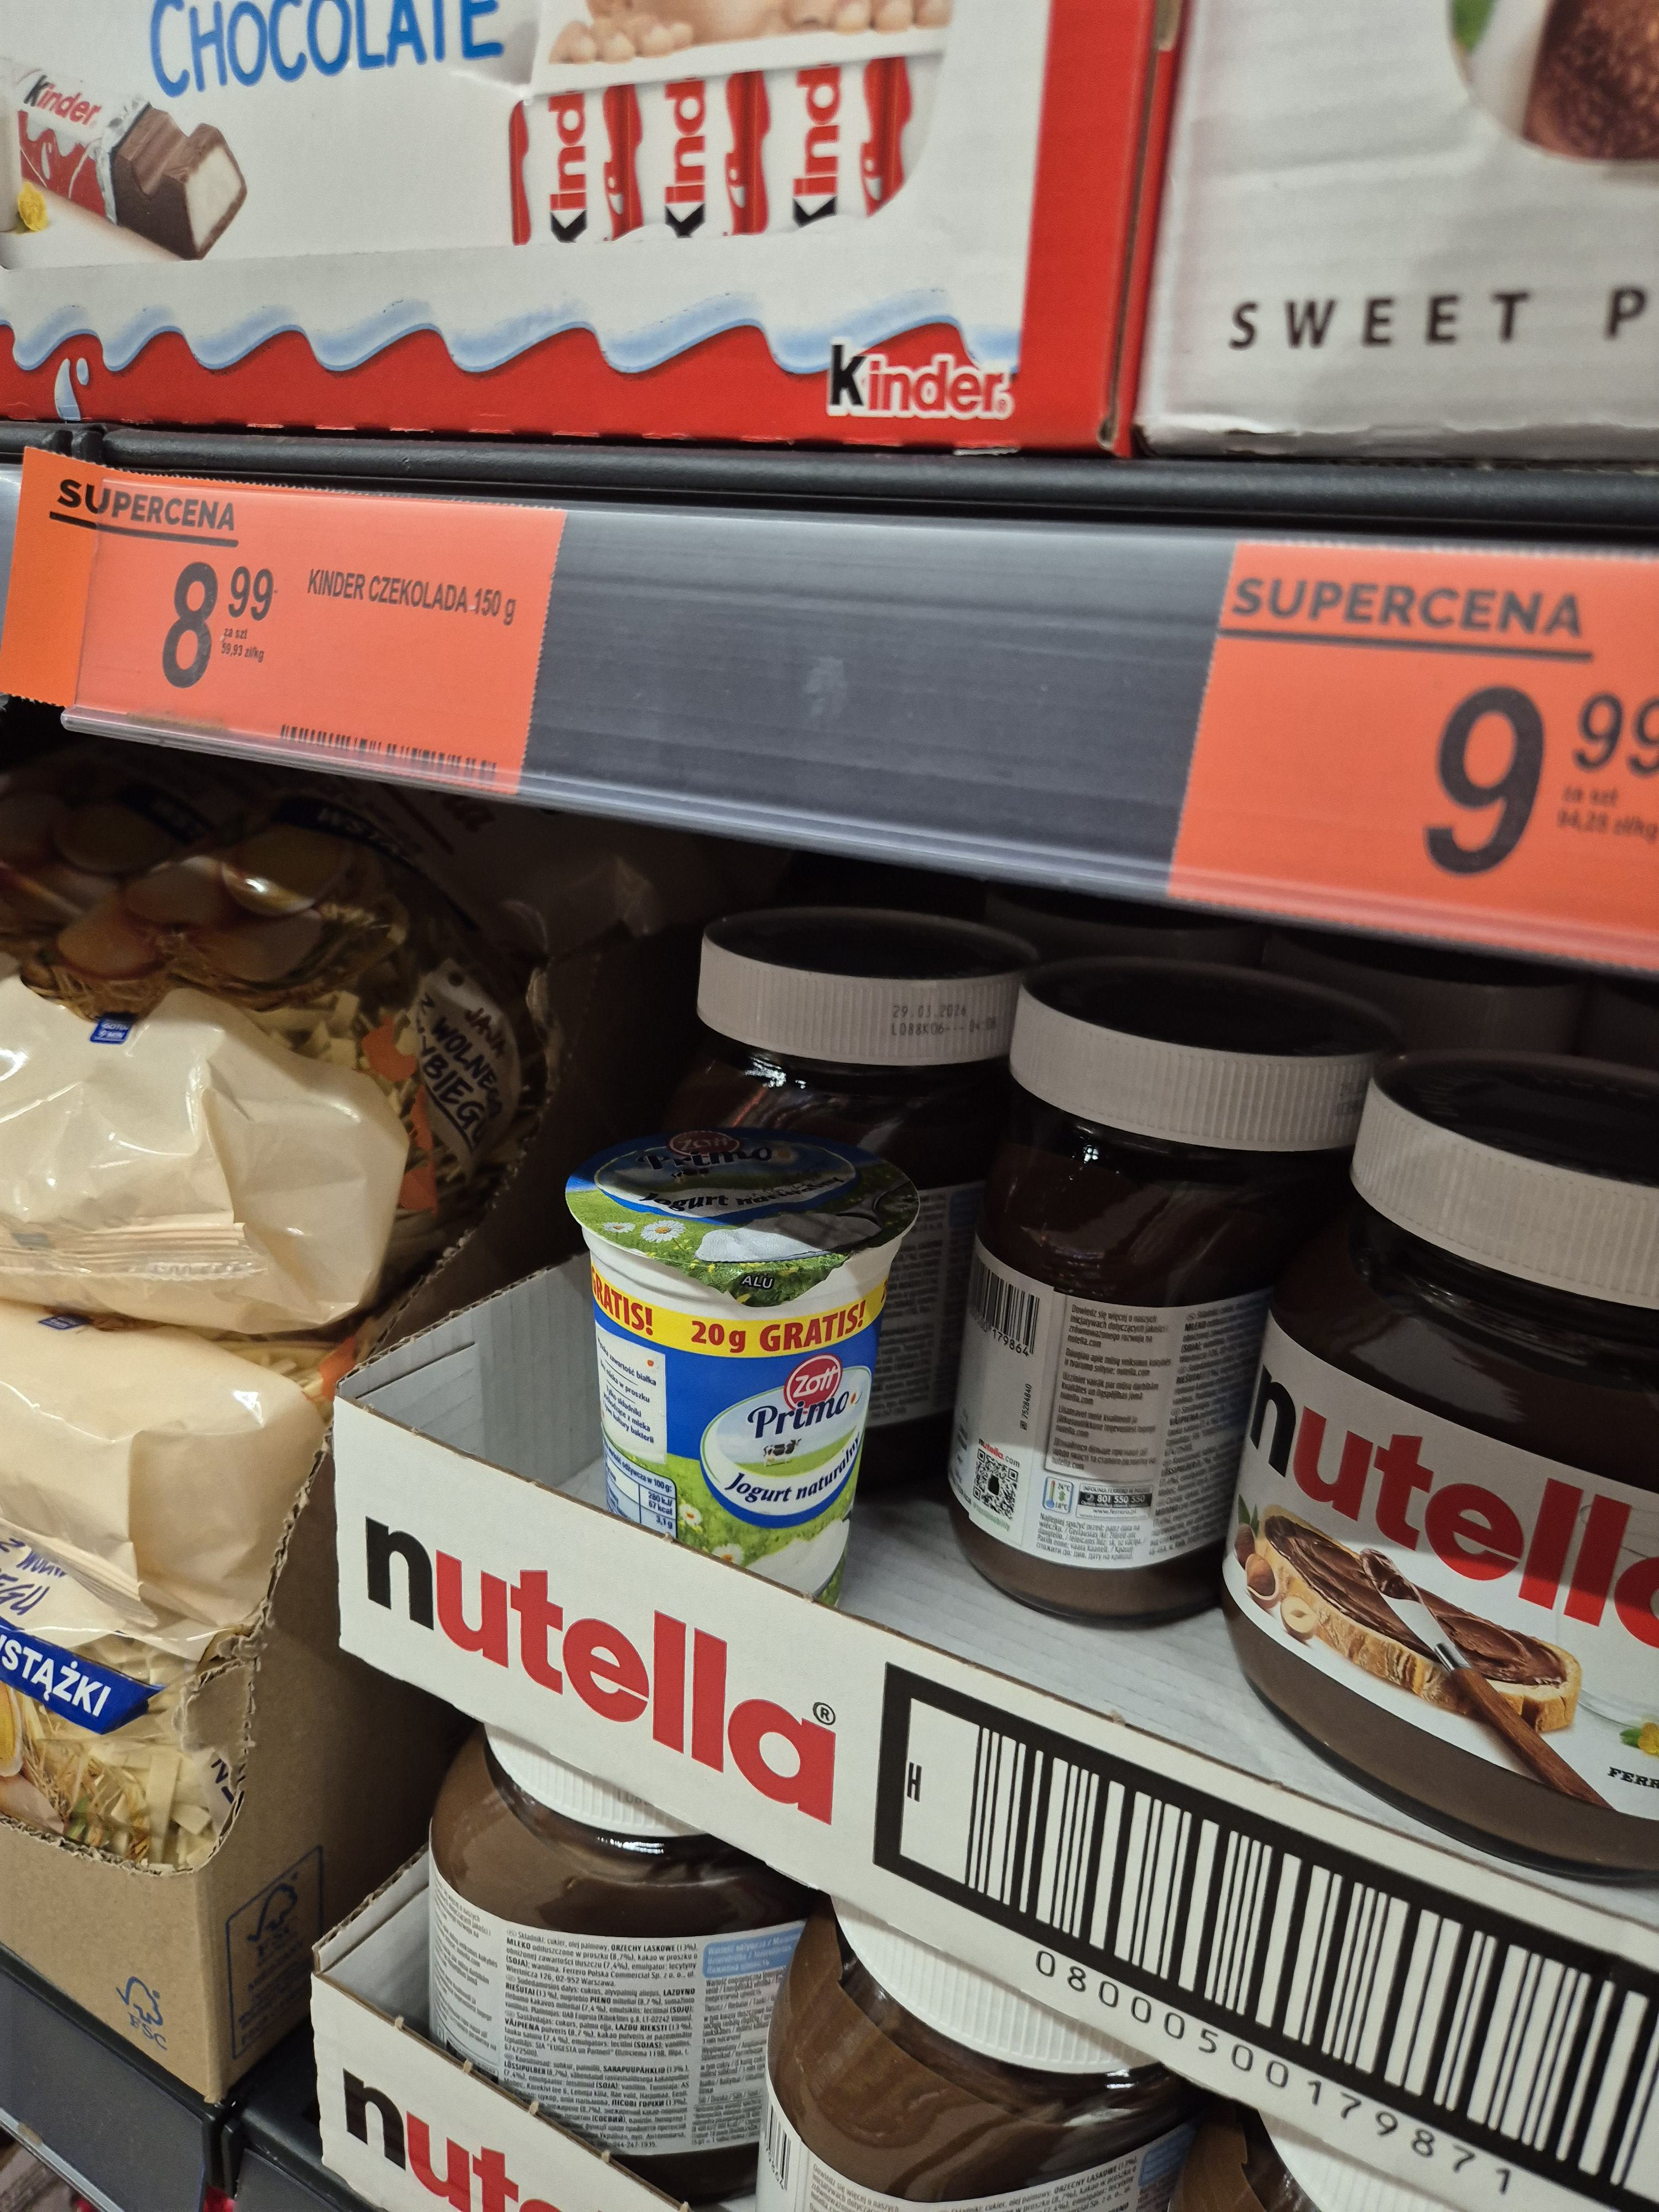Yogurt: (568, 1120, 906, 1608)
